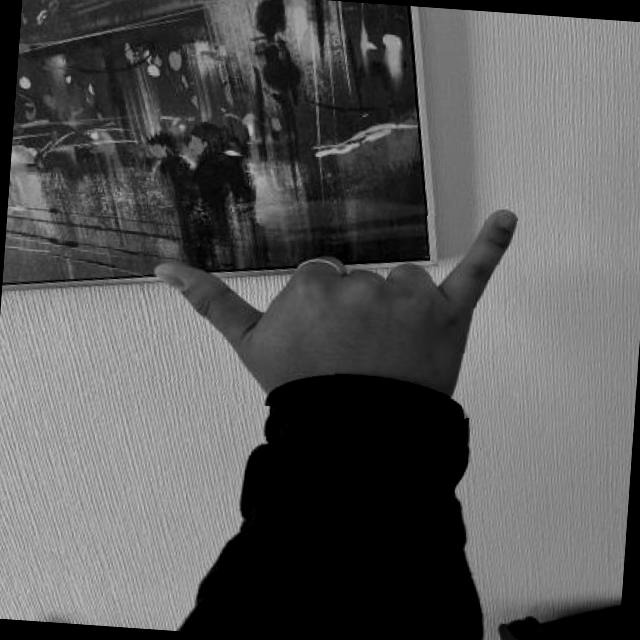Y: (133, 175, 532, 424)
